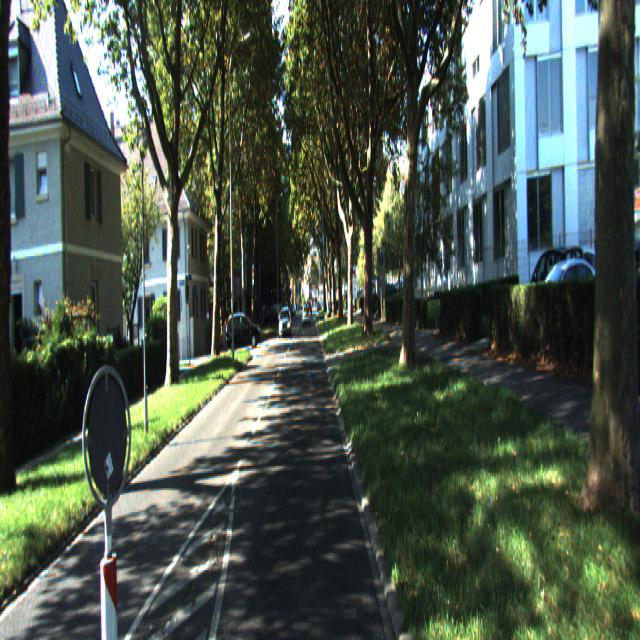Car: (226, 314, 262, 355), (278, 310, 292, 340)
